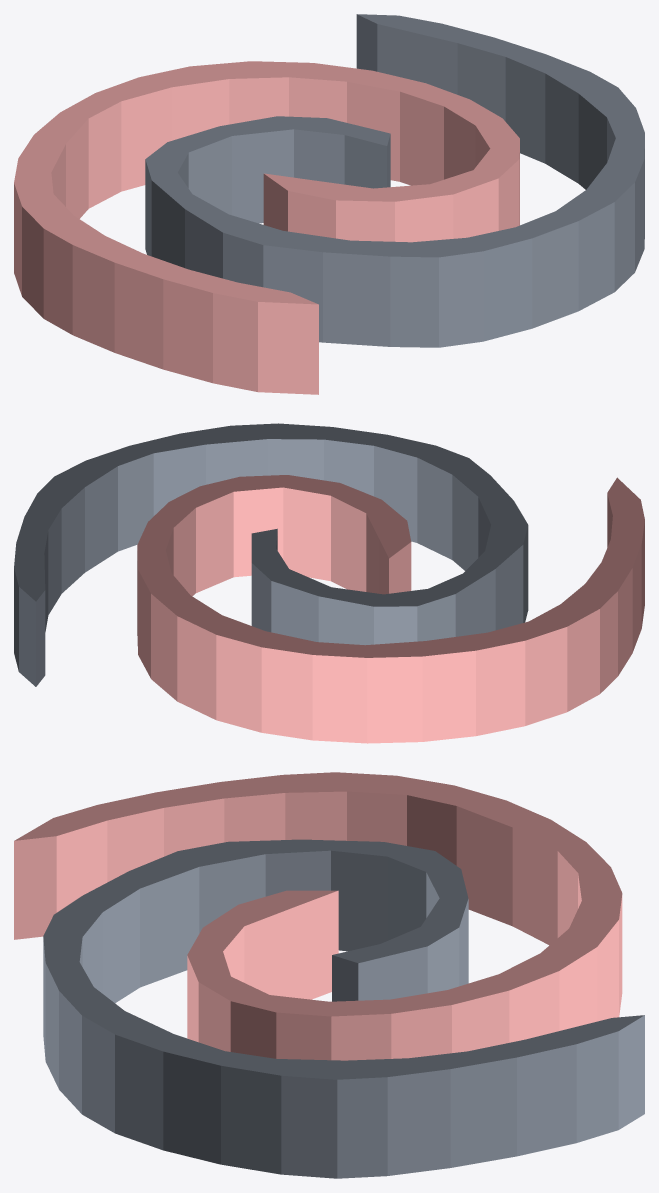
The model's file is lucide-react.glb.
3 renders of one model, top to bottom at view 1: azimuth 30°, elevation 25°; view 2: azimuth 150°, elevation 25°; view 3: azimuth 270°, elevation 25°, orthographic. The views are drawn at different scales.
Parts seen in each view (by area): view 1: Node2, Node1; view 2: Node1, Node2; view 3: Node2, Node1.
Part boxes in pixels (x1,y1,x2,y2): Node2: (145,14,644,347); Node1: (14,61,519,394); Node1: (137,475,644,743); Node2: (14,423,528,686); Node2: (43,839,644,1178); Node1: (14,772,622,1060).
Bounding box in the file's own units: 2.62 × 0.3937 × 2.28.
